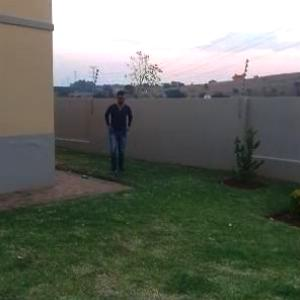follow: (101, 88, 133, 180)
